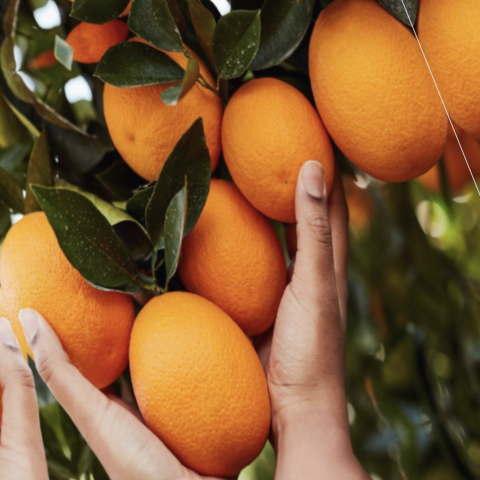orange: (89, 261, 303, 480), (259, 0, 464, 212), (188, 41, 362, 247)
